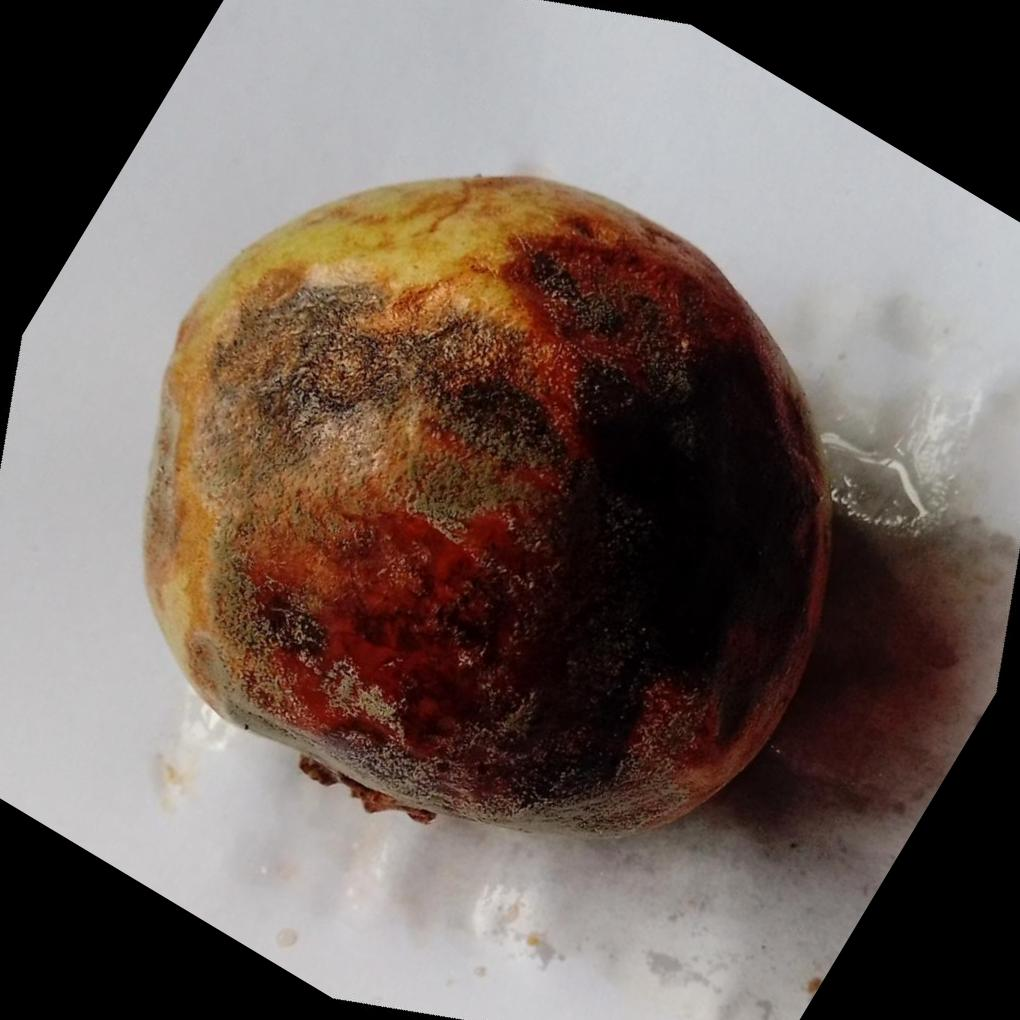FreshOrange: (141, 170, 836, 837)
